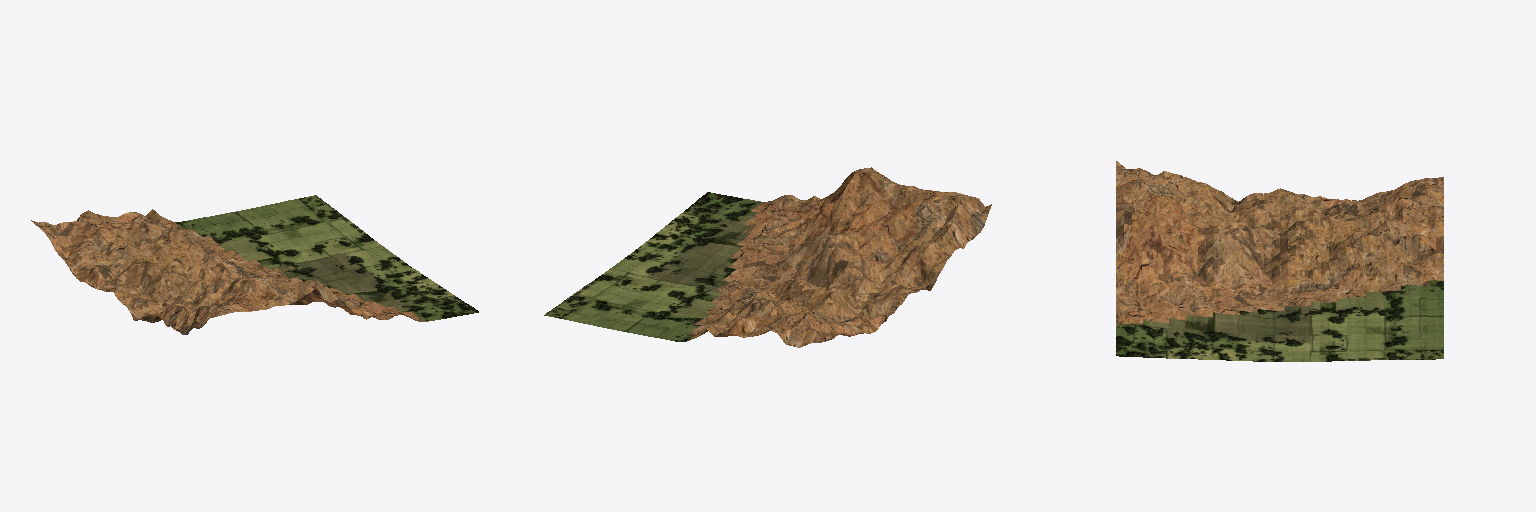
The picture shows the model from 3 angles: view 1: azimuth 30°, elevation 25°; view 2: azimuth 150°, elevation 25°; view 3: azimuth 270°, elevation 25°; orthographic projection.
Visible parts, largest first — view 1: initialVertexBakeSet pPlane1; view 2: initialVertexBakeSet pPlane1; view 3: initialVertexBakeSet pPlane1.
Part boxes in pixels (x1,y1,x2,y2): initialVertexBakeSet pPlane1: (31,195,478,334); initialVertexBakeSet pPlane1: (544,167,991,347); initialVertexBakeSet pPlane1: (1116,161,1443,361).
Size of the model in its own units: 100 by 24.24 by 100.
1 materials, 1 textured.